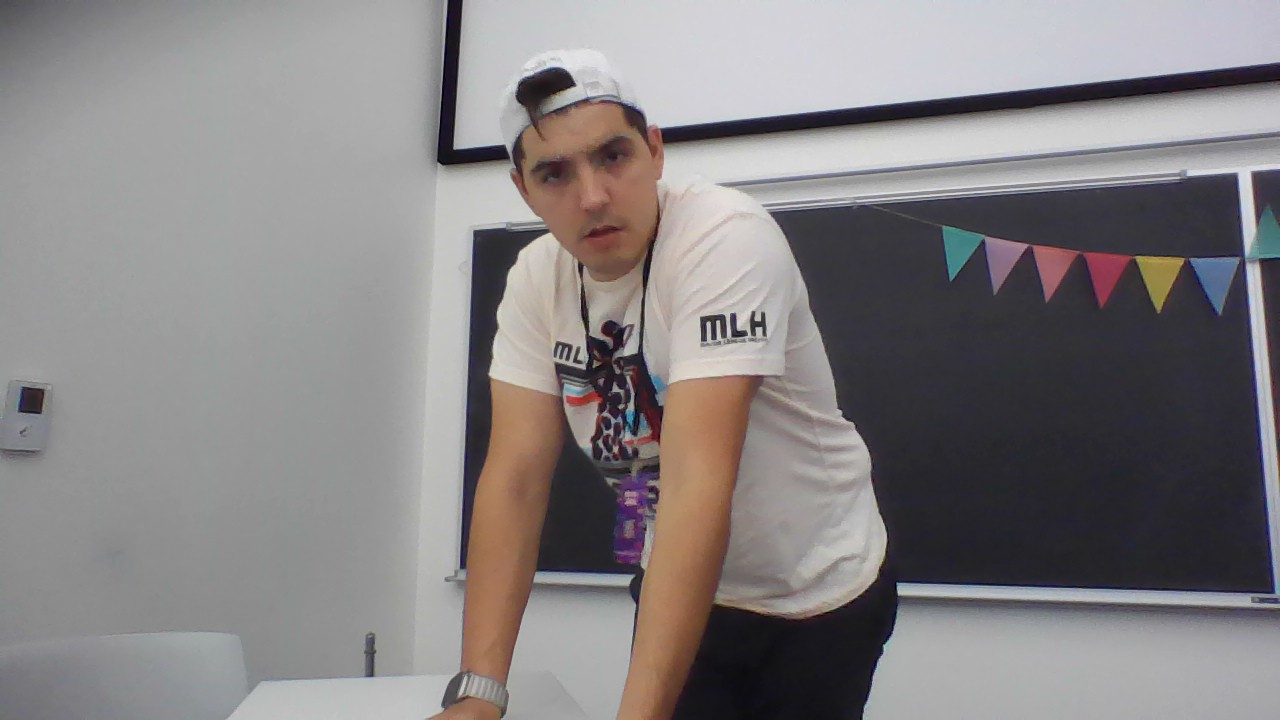height_frame: (480, 58, 937, 714)
hip_frame: (637, 576, 892, 585)
shoulder_frame: (526, 254, 751, 276)
waist_frame: (616, 480, 821, 497)
